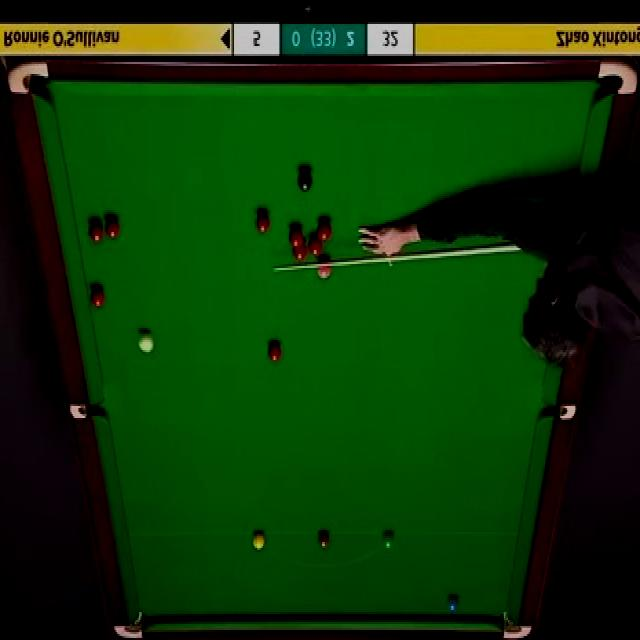black-ball: (298, 168, 312, 190)
blue-ball: (448, 596, 462, 613)
brown-ball: (318, 530, 331, 550)
green-ball: (381, 529, 395, 550)
pink-ball: (316, 256, 332, 281)
red-ball: (255, 208, 271, 235), (90, 286, 106, 310), (103, 218, 120, 239), (310, 238, 326, 260), (317, 220, 332, 243), (267, 340, 282, 362), (293, 239, 307, 262), (89, 221, 103, 243), (289, 226, 303, 247)
white-ball: (139, 328, 153, 354)
yellow-ball: (251, 530, 266, 551)
